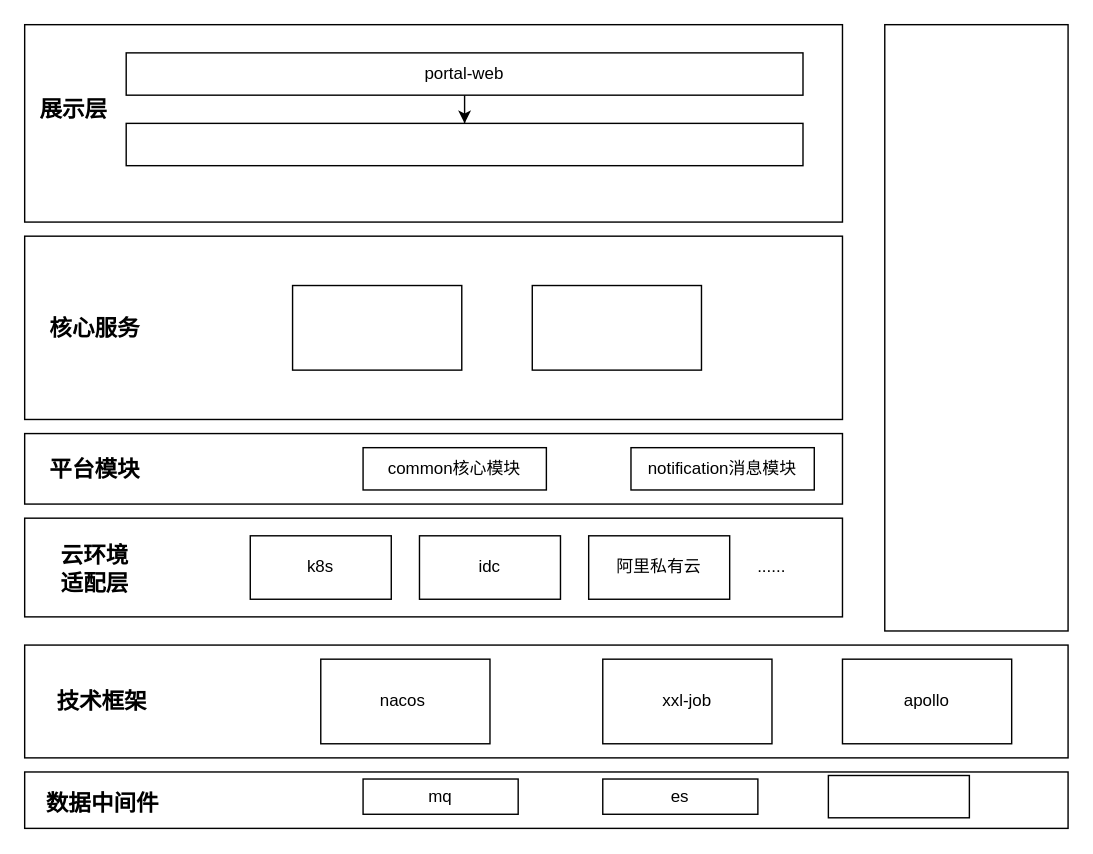
The diagram is 1093 pixels wide and 854 high, and some of its shapes have lost their labels. The shapes that lost their labels are listed below. From the top down, each one's box as (x1, y1, x2, y2) in pixels, then its label:
(125, 122, 803, 166): portal服务
(883, 23, 1068, 631): 云商平台
(827, 774, 969, 818): mysql
